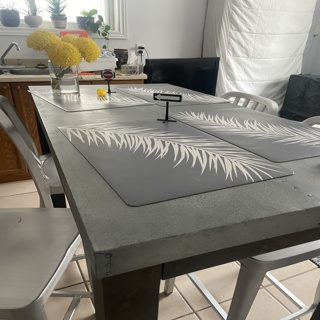sign_noentry: (102, 71, 113, 78)
sign_oneway_left: (150, 89, 180, 99)
